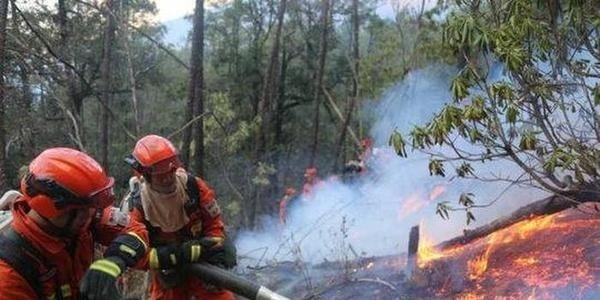fire: (404, 181, 597, 300)
